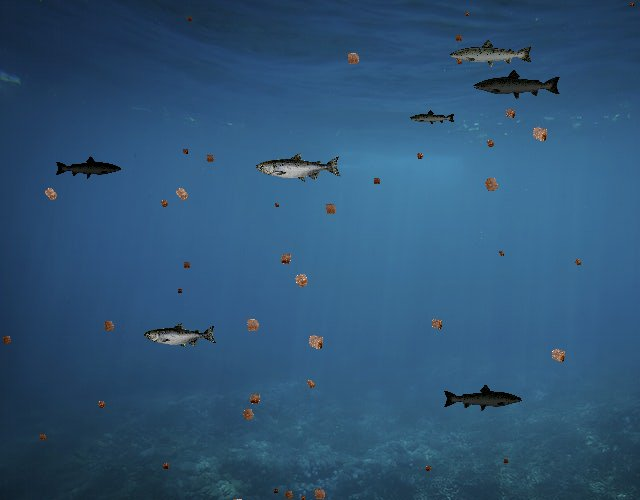Fish: (473, 68, 563, 101), (448, 38, 534, 69), (256, 152, 342, 183), (443, 384, 524, 413), (145, 322, 218, 349), (54, 156, 122, 180), (409, 109, 456, 126)
Pellet: (239, 312, 266, 339), (341, 46, 366, 71), (243, 388, 266, 410), (369, 174, 384, 188), (422, 462, 435, 475), (179, 145, 192, 158), (462, 8, 472, 18)
